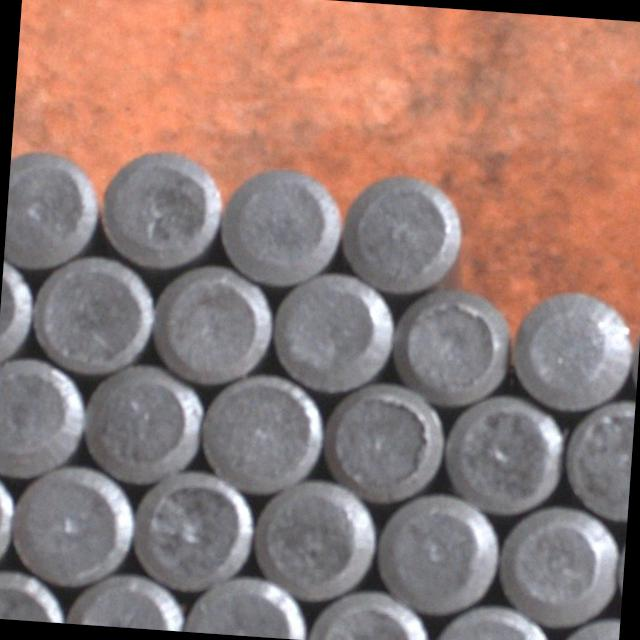tool: (503, 279, 640, 415), (92, 136, 226, 272), (334, 162, 466, 300), (212, 156, 346, 290), (248, 472, 379, 606), (194, 368, 326, 499), (267, 264, 396, 398), (372, 486, 502, 618), (492, 499, 622, 630), (29, 248, 158, 380), (8, 458, 136, 590), (148, 258, 276, 390), (440, 388, 568, 518), (320, 376, 447, 507), (392, 277, 516, 409), (128, 466, 255, 594), (78, 358, 205, 486), (3, 140, 102, 272), (0, 352, 88, 481), (558, 394, 635, 522), (182, 570, 309, 640), (65, 567, 187, 631), (308, 583, 432, 640)
